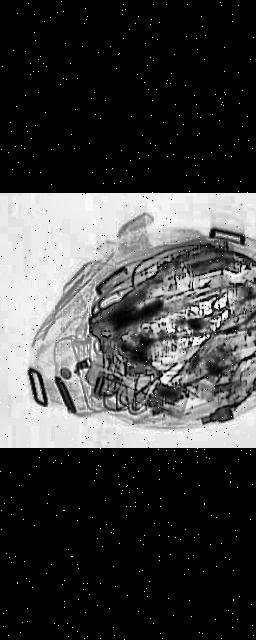Pliers: (58, 260, 242, 348)
